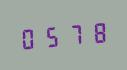eight: (84, 18, 105, 46)
five: (40, 22, 61, 50)
seven: (62, 20, 83, 48)
zero: (18, 23, 39, 52)
